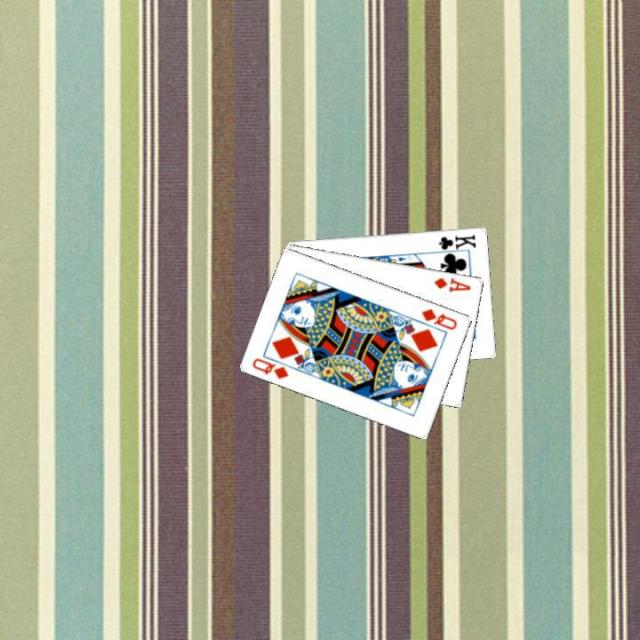AD: (430, 274, 473, 293)
KC: (432, 230, 477, 255)
QD: (418, 304, 460, 332), (249, 354, 291, 380)
